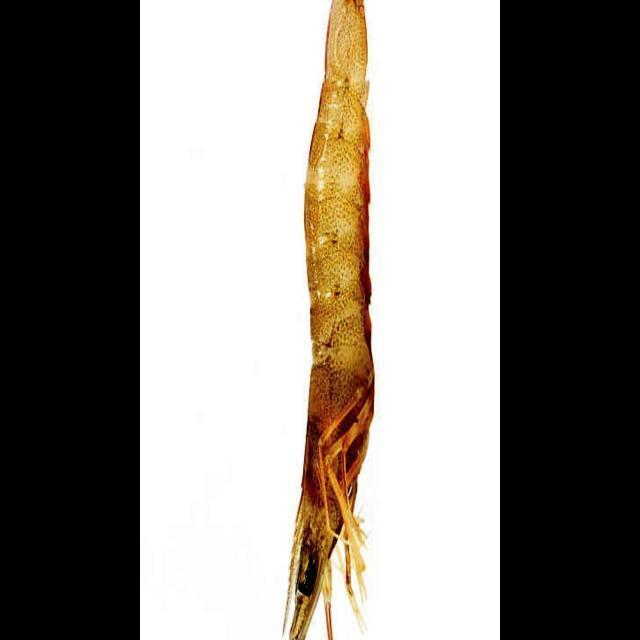shrimp: (285, 0, 374, 640)
